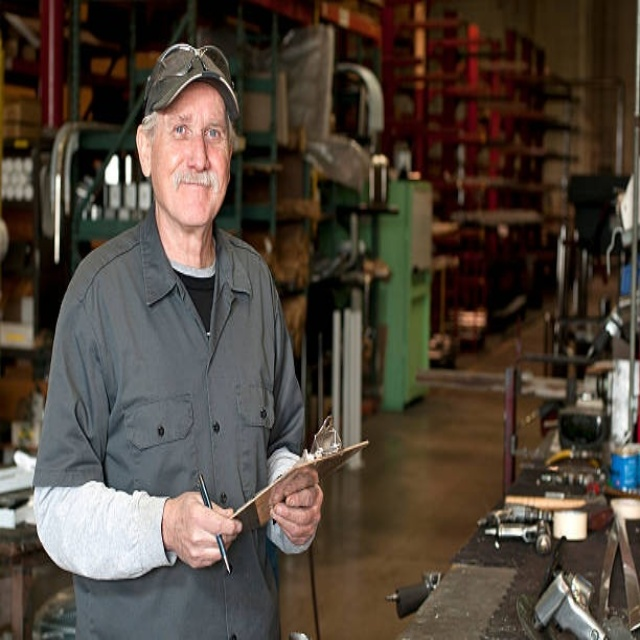Sin_gafas: (162, 122, 227, 146)
Sin_guantes: (167, 491, 244, 569), (269, 473, 324, 547)
Sin_mascara: (172, 166, 214, 214)
